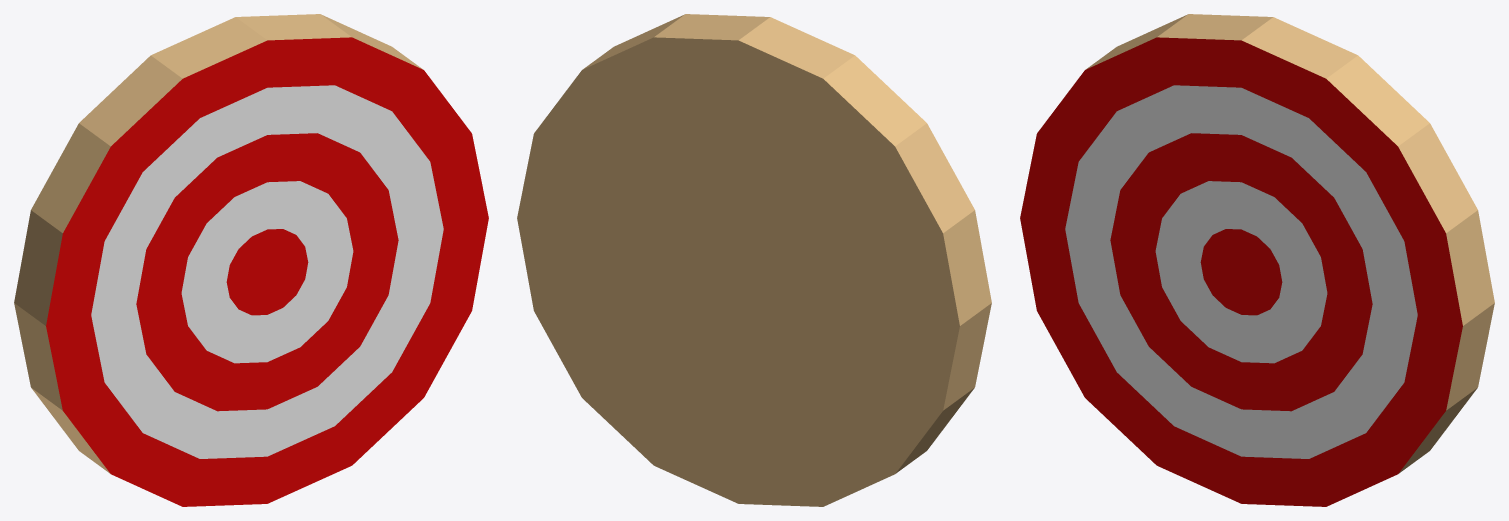
File: Target2.fbx
3 views of the same model, side by side, from view 1: azimuth 30°, elevation 25°; view 2: azimuth 150°, elevation 25°; view 3: azimuth 330°, elevation 25° (orthographic).
Parts seen in each view (by area): view 1: Cylinder; view 2: Cylinder; view 3: Cylinder.
Part boxes in pixels (bbox=[...]): Cylinder: bbox=[14, 14, 488, 506]; Cylinder: bbox=[517, 14, 991, 506]; Cylinder: bbox=[1020, 14, 1494, 506].
Size of the model in its own units: 100 by 100 by 12.5.
